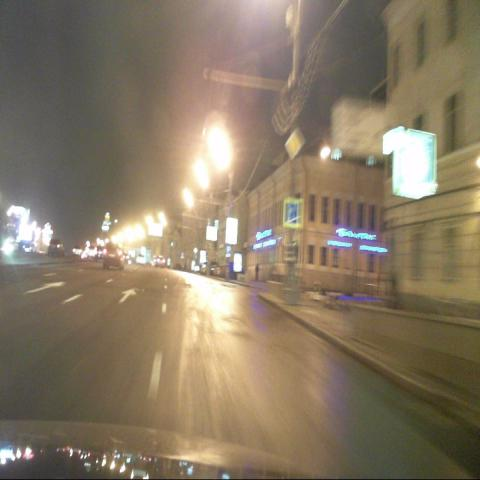2_1: (284, 131, 300, 160)
6_6: (282, 197, 300, 226)
